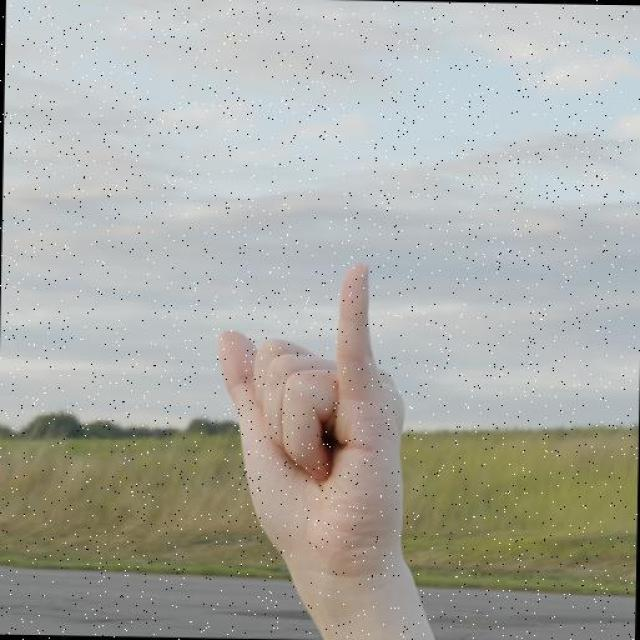Y: (210, 252, 426, 582)
